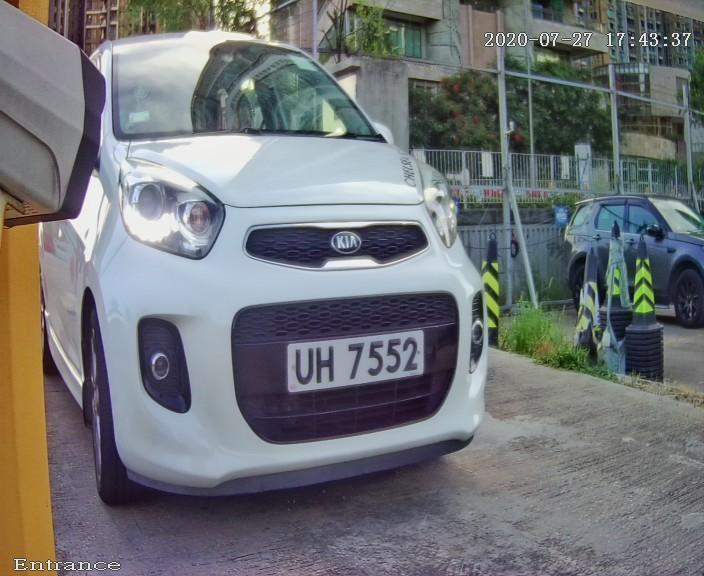privatecar: (41, 13, 532, 523)
